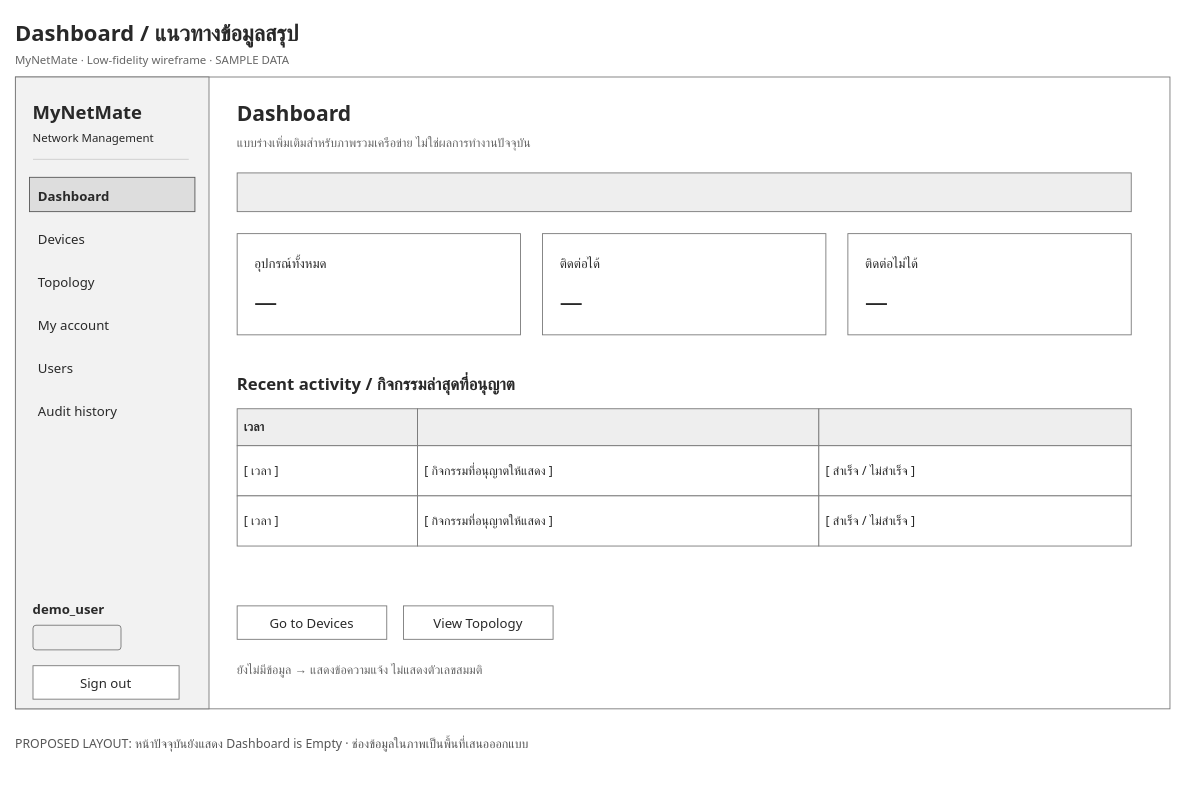
This 1185x786 diagram has some shape labels left out. Here are the shapes that lost their labels. From the top down, the centre of each, then its label:
At point 683,192: "PROPOSED · ข้อมูลสรุปและกิจกรรมล่าสุดยังต้องพัฒนา".
At point 618,427: "เหตุการณ์สรุป".
At point 974,427: "ผลลัพธ์".
At point 76,637: "Admin".
